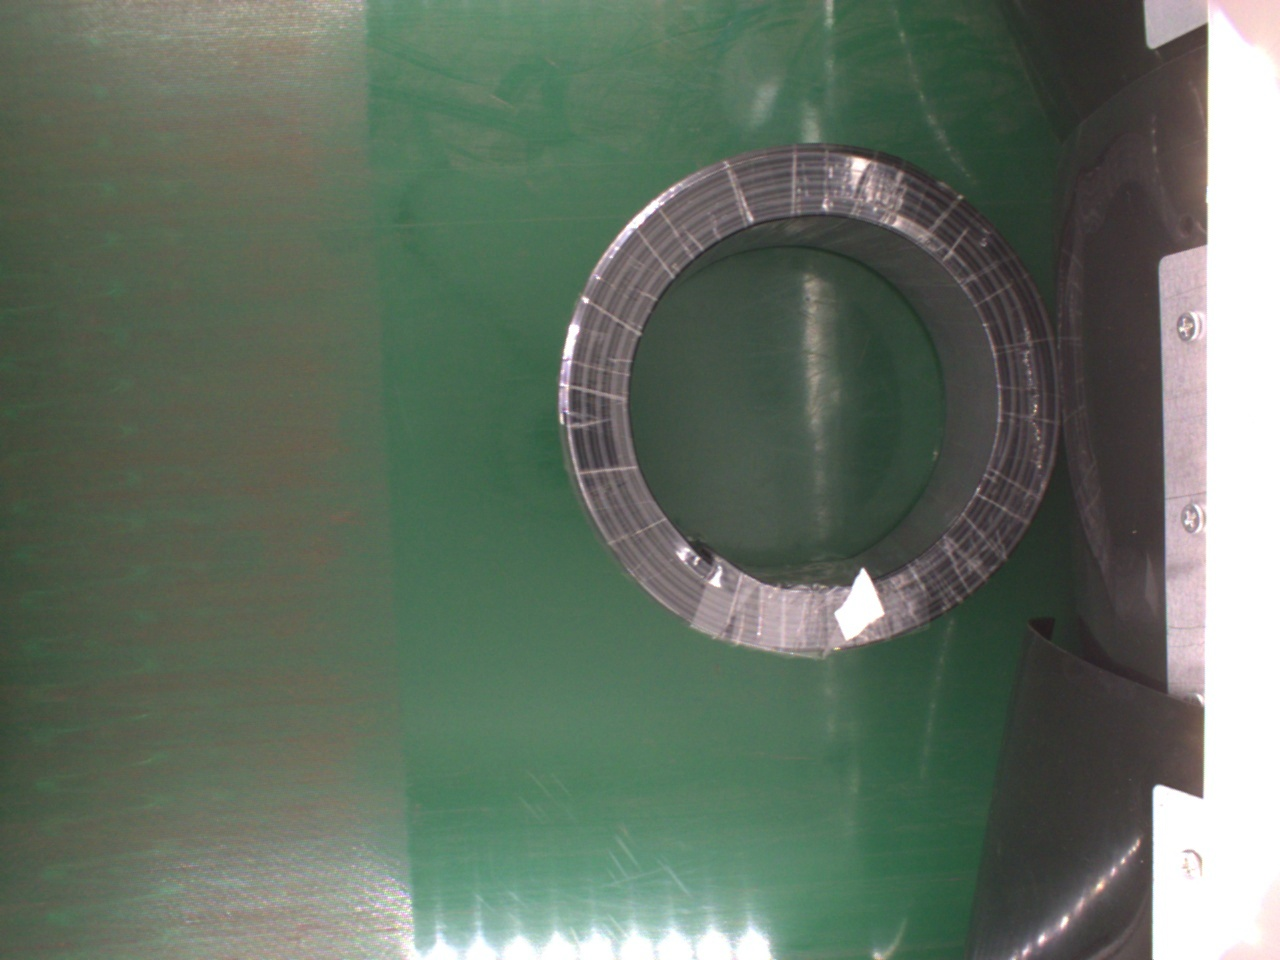black: (552, 141, 1053, 663)
